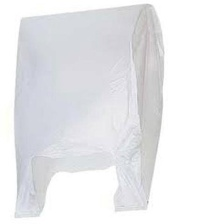plastic_bag: (8, 0, 167, 221)
